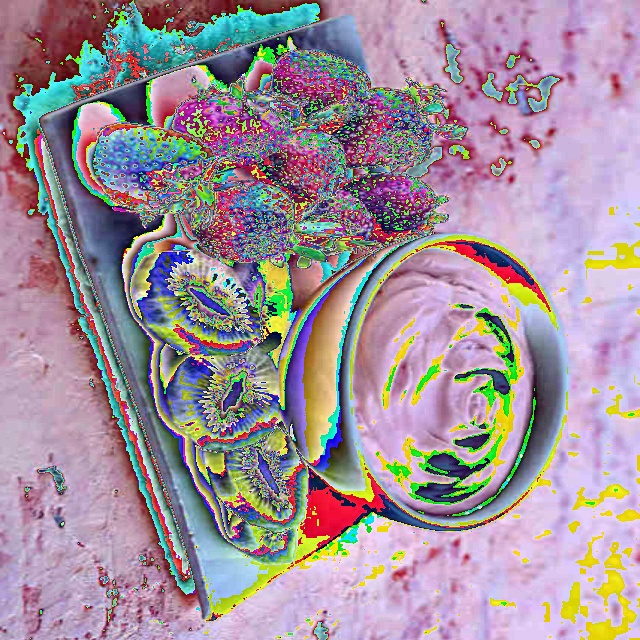background: (92, 49, 469, 564), (188, 249, 539, 518)
